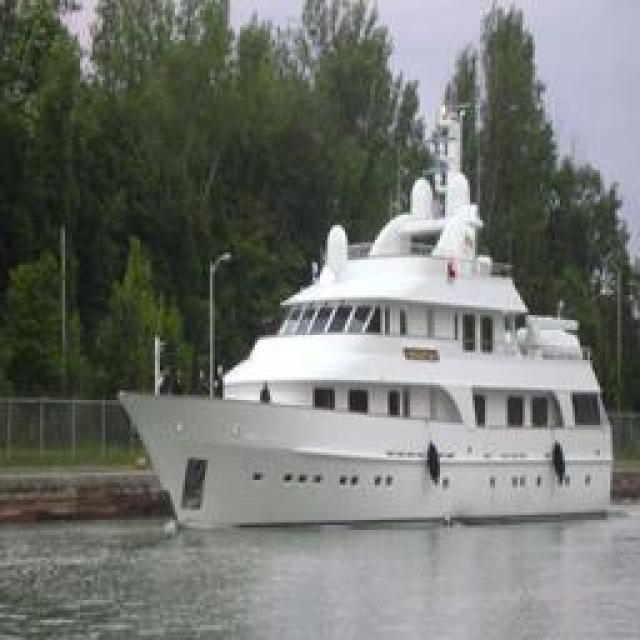CIV_Ship: (122, 174, 622, 528)
